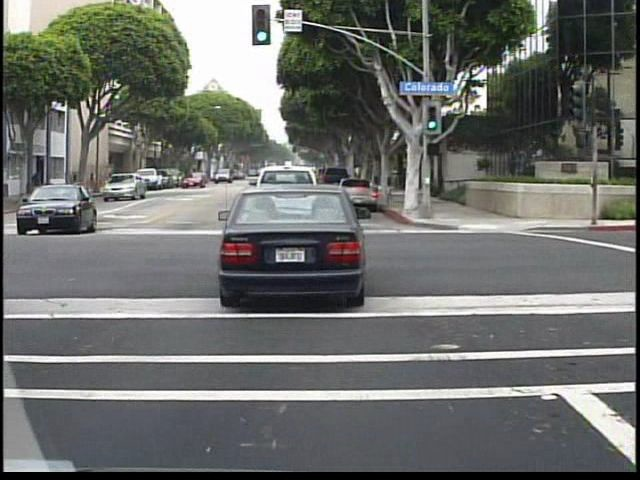person: (26, 169, 46, 207)
